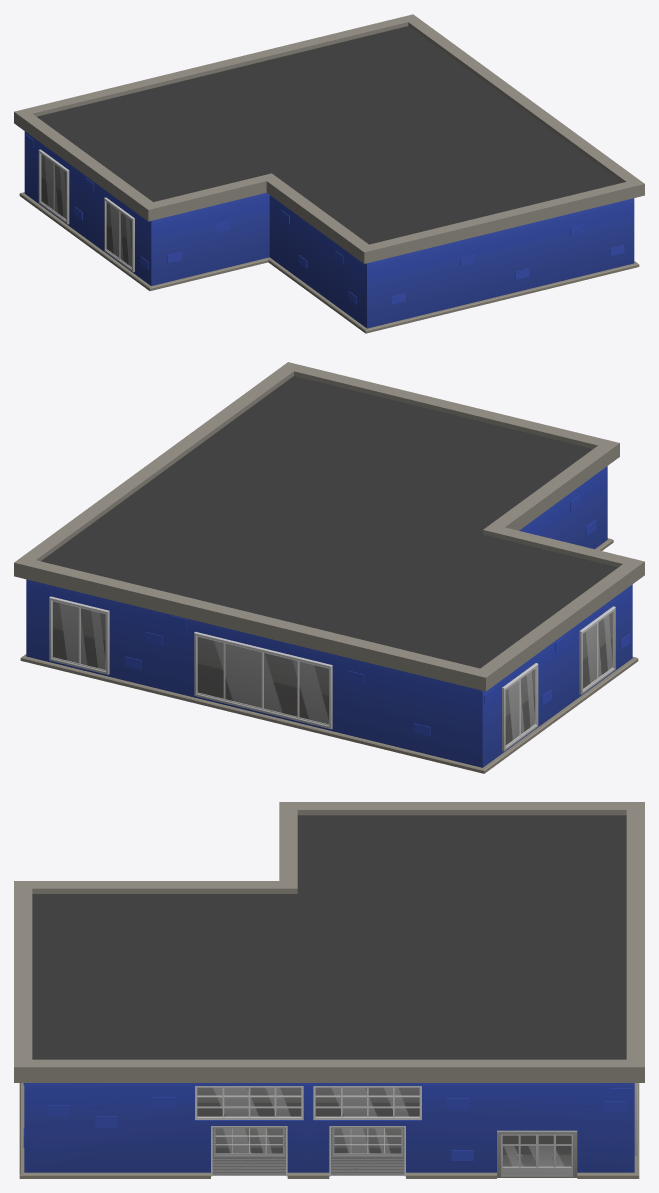
The model's file is Building_22_2_F.fbx.
3 renders of one model, top to bottom at view 1: azimuth 30°, elevation 25°; view 2: azimuth 150°, elevation 25°; view 3: azimuth 270°, elevation 25°, orthographic. The views are drawn at different scales.
Parts seen in each view (by area): view 1: Building_22_2_F; view 2: Building_22_2_F; view 3: Building_22_2_F.
Boxes of the visible parts, x1,y1,x2,y2 form: Building_22_2_F: (14,14,644,333); Building_22_2_F: (14,362,644,773); Building_22_2_F: (14,802,644,1178).
Size of the model in its own units: 3108 by 622 by 3125.
